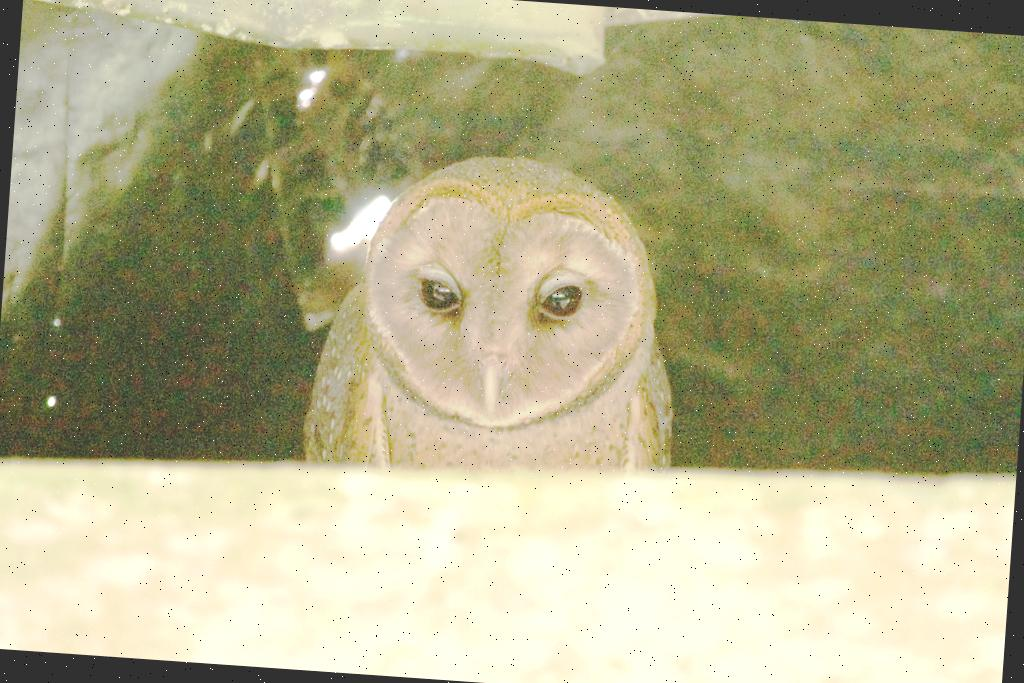Owl: (304, 142, 698, 494)
